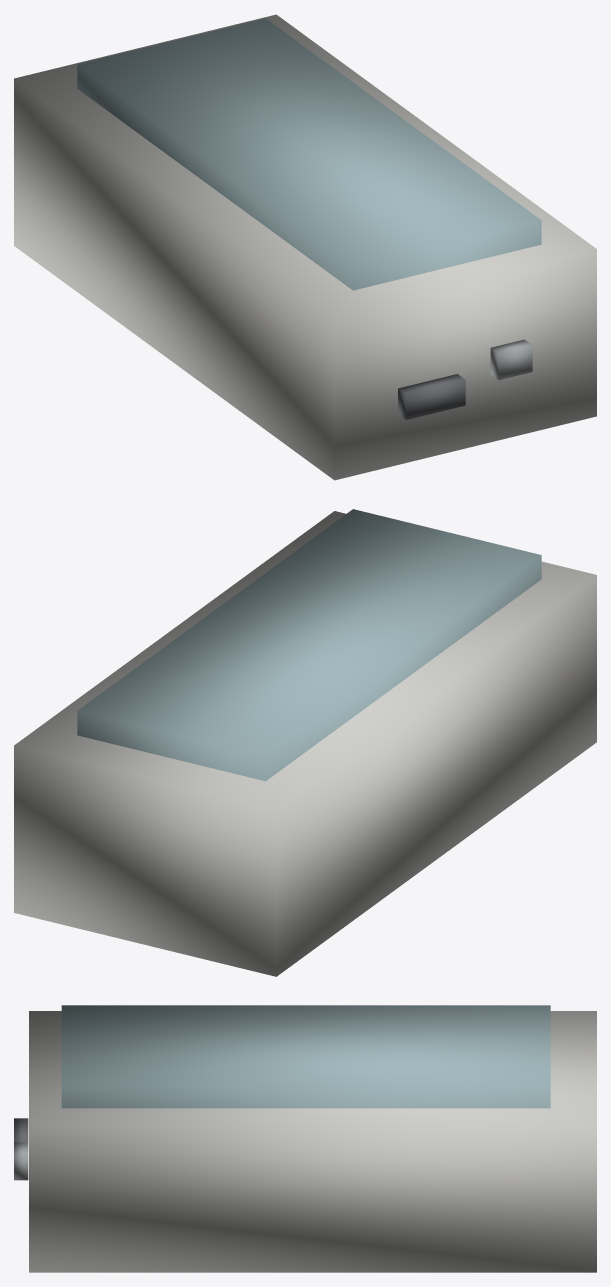
The model's file is bathtub__weathered.glb.
The picture shows the model from 3 angles, top to bottom: view 1: azimuth 30°, elevation 25°; view 2: azimuth 150°, elevation 25°; view 3: azimuth 270°, elevation 25°; orthographic projection. The views are drawn at different scales.
Parts seen in each view (by area): view 1: world; view 2: world; view 3: world.
Part boxes in pixels (<box>): world: <box>14,14,596,480</box>; world: <box>14,509,596,976</box>; world: <box>14,1005,596,1272</box>.
Size of the model in its own units: 0.78 by 0.5445 by 1.69.
